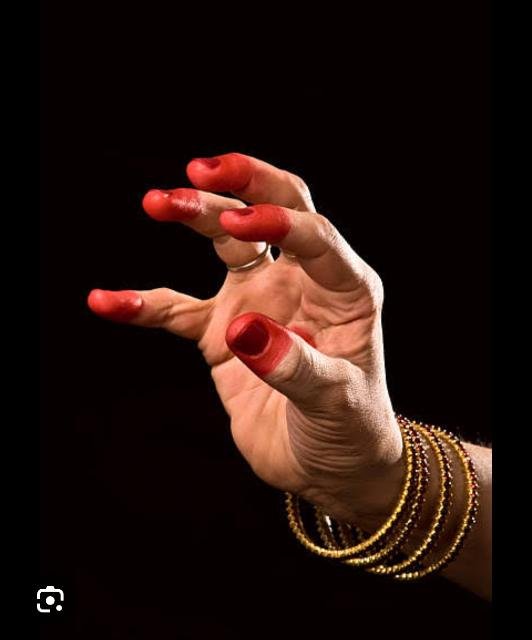padamkosh: (88, 154, 405, 530)
